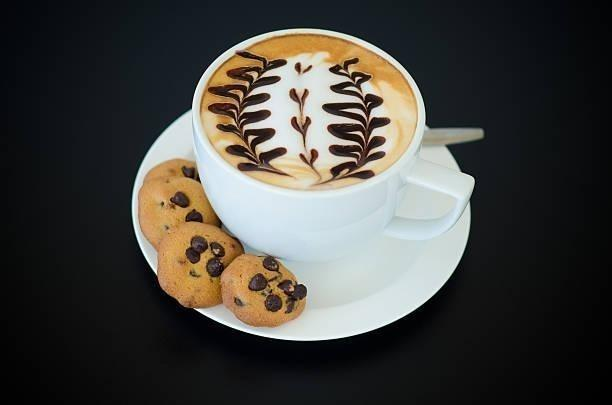cup-handle: (189, 26, 481, 264)
